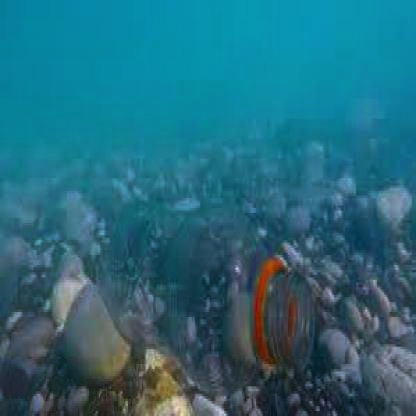pbottle: (75, 183, 322, 384)
